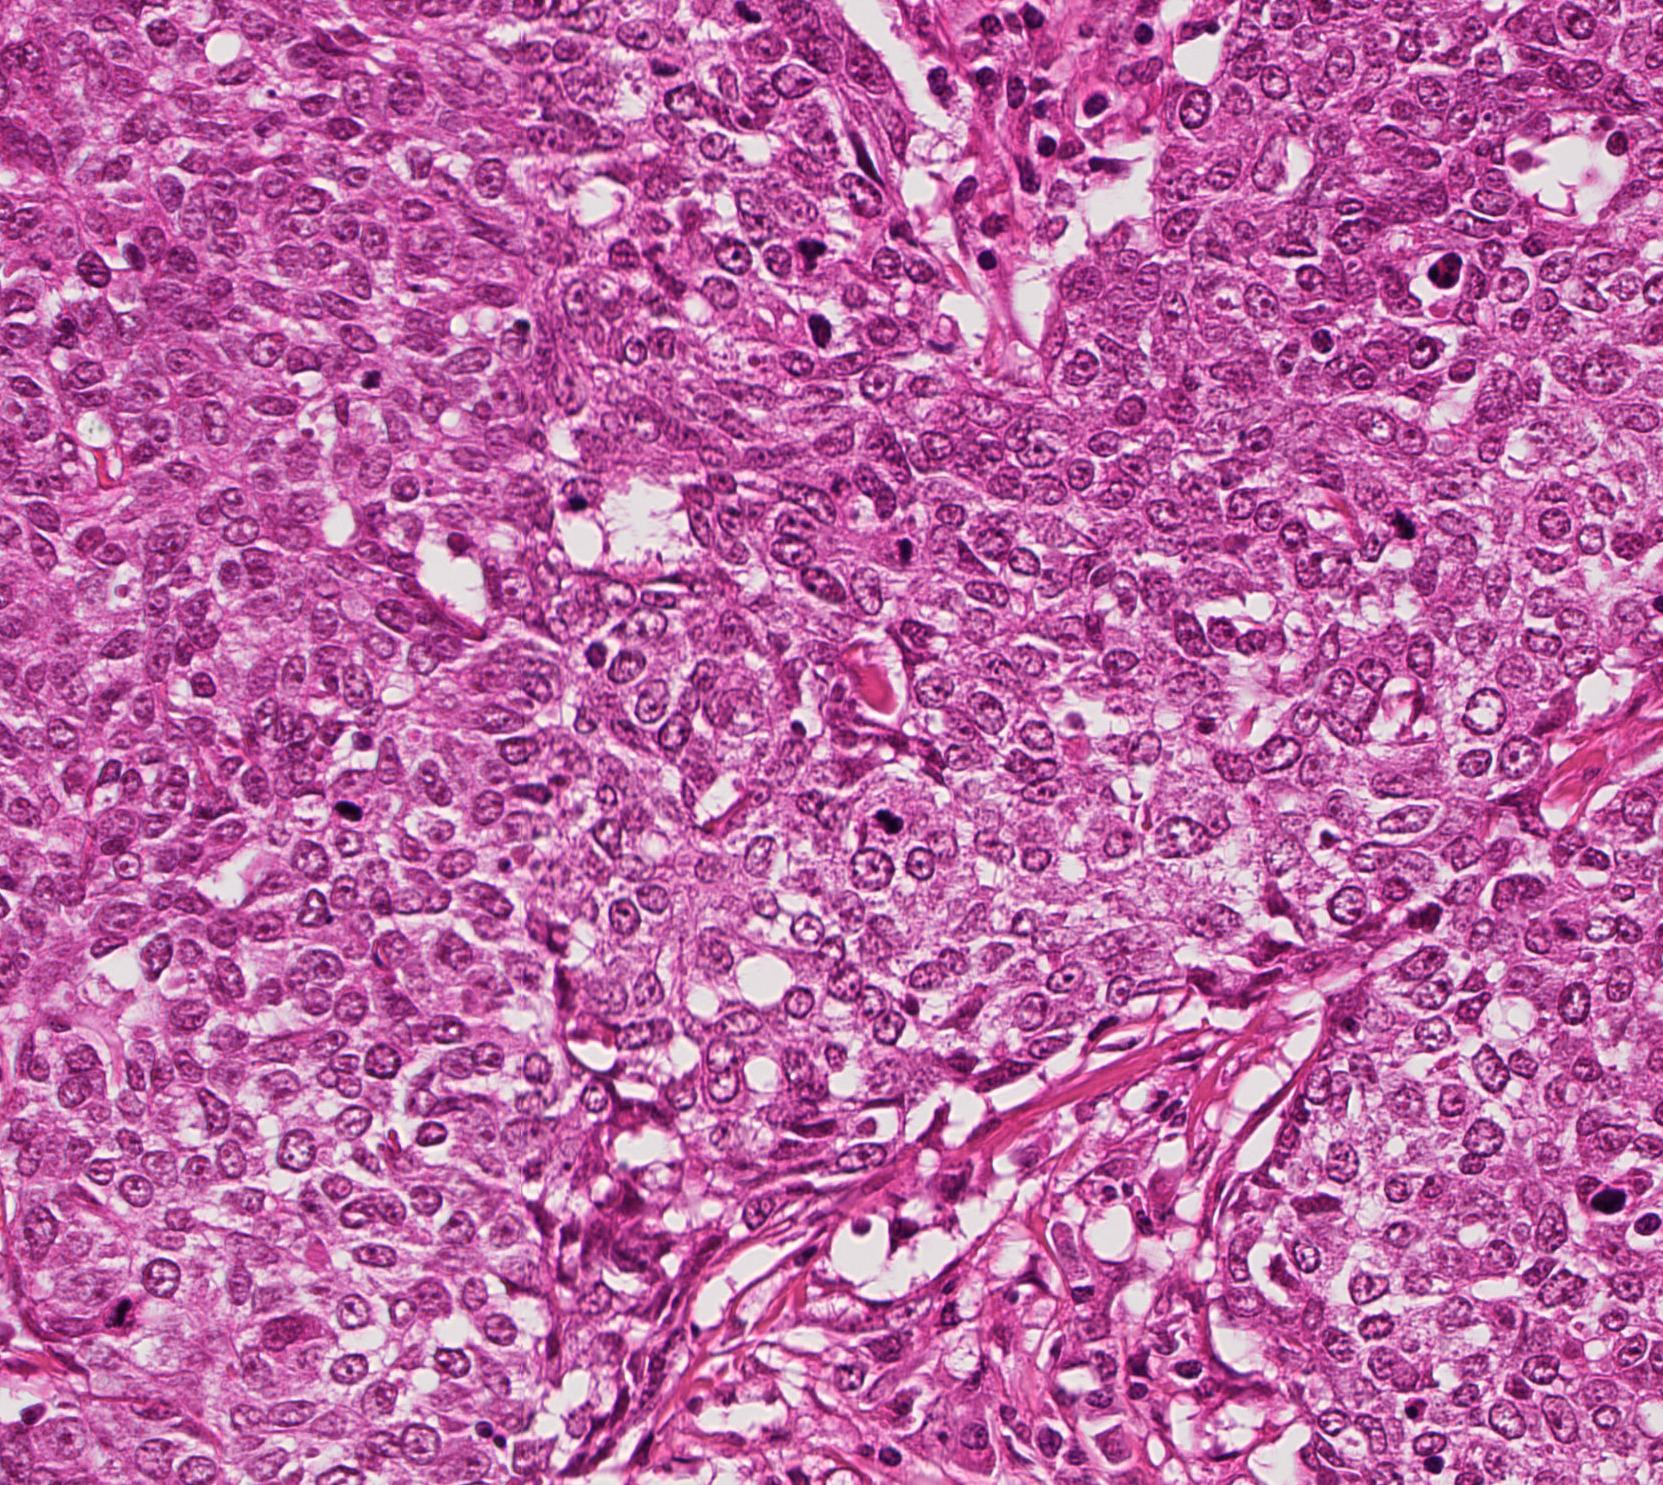mitosis: (857, 787, 918, 847)
